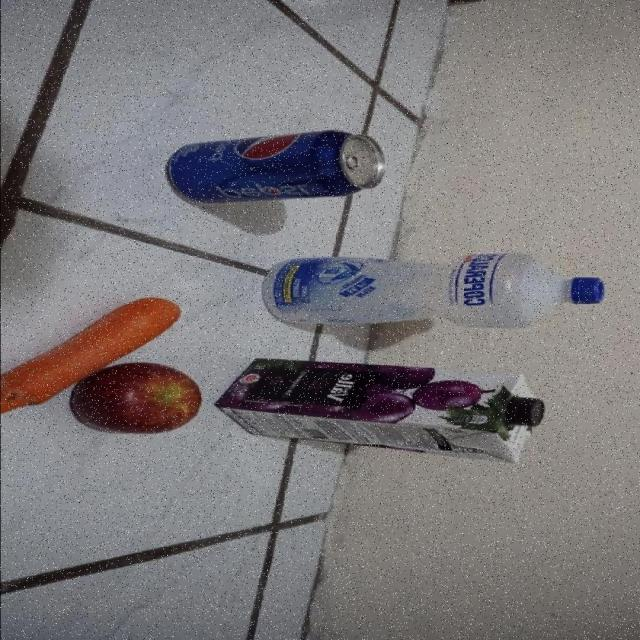AlcoholBottle: (255, 252, 605, 329)
Apple: (70, 362, 200, 434)
Carrot: (26, 297, 182, 362)
SodaCan: (164, 128, 387, 203)
